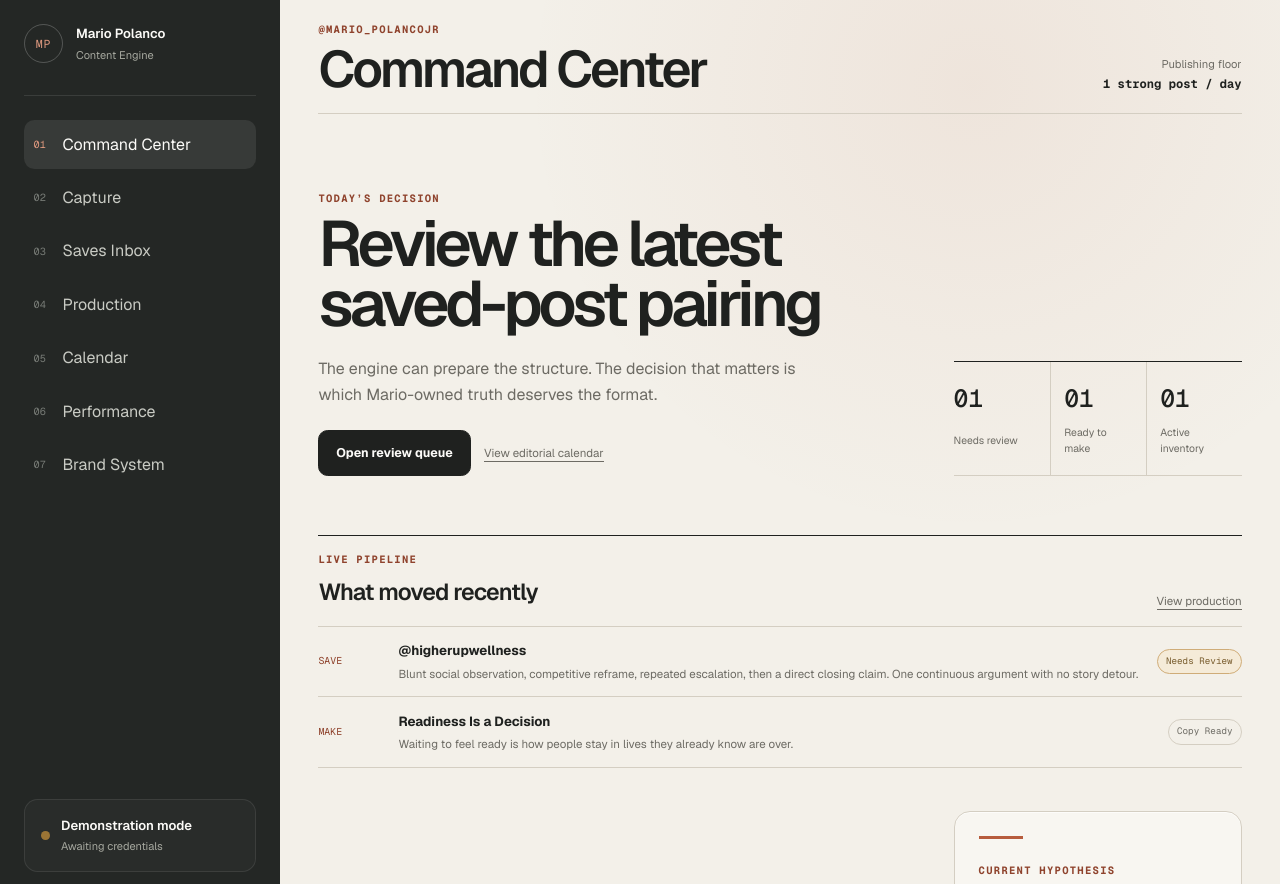
Test: Production package instructions › keeps carousels in the Canva copy workflow without a script option
What coordinates should you click on to do the following:
click the button "04 Production"
I would click on:
 (140, 305)
Its box is [24,280,256,329].
(page scrolled)
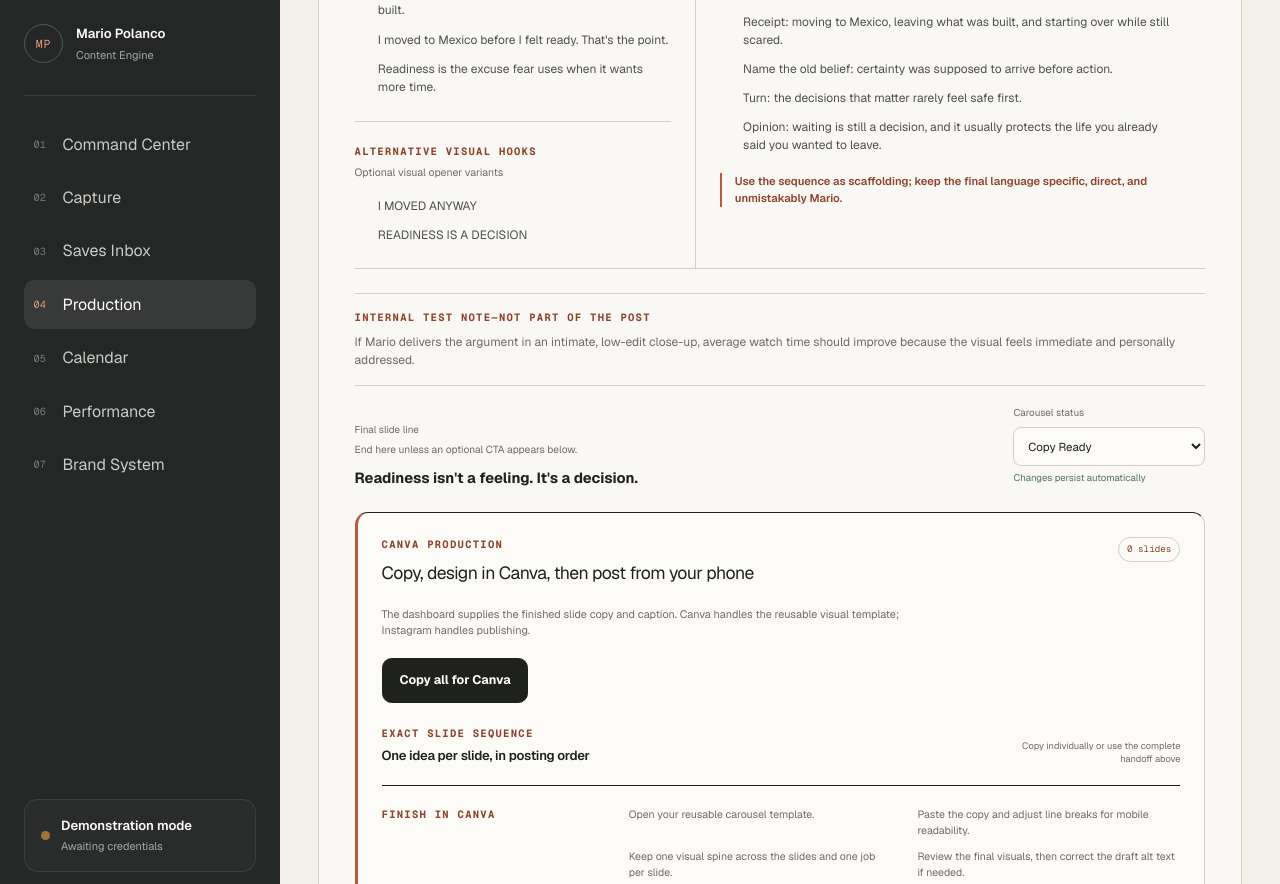
Expected: the dropdown labelled "Carousel status" is shown, [1013,427,1205,466]
